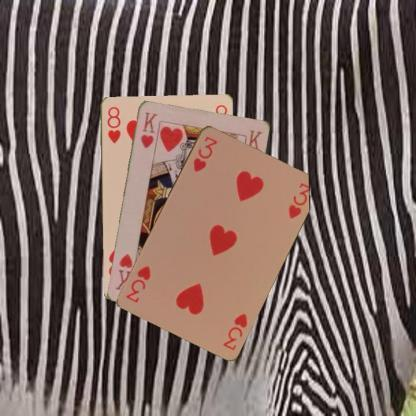3h: (190, 132, 219, 174), (220, 310, 249, 352)
8h: (104, 104, 122, 144)
Kh: (137, 109, 159, 150)
